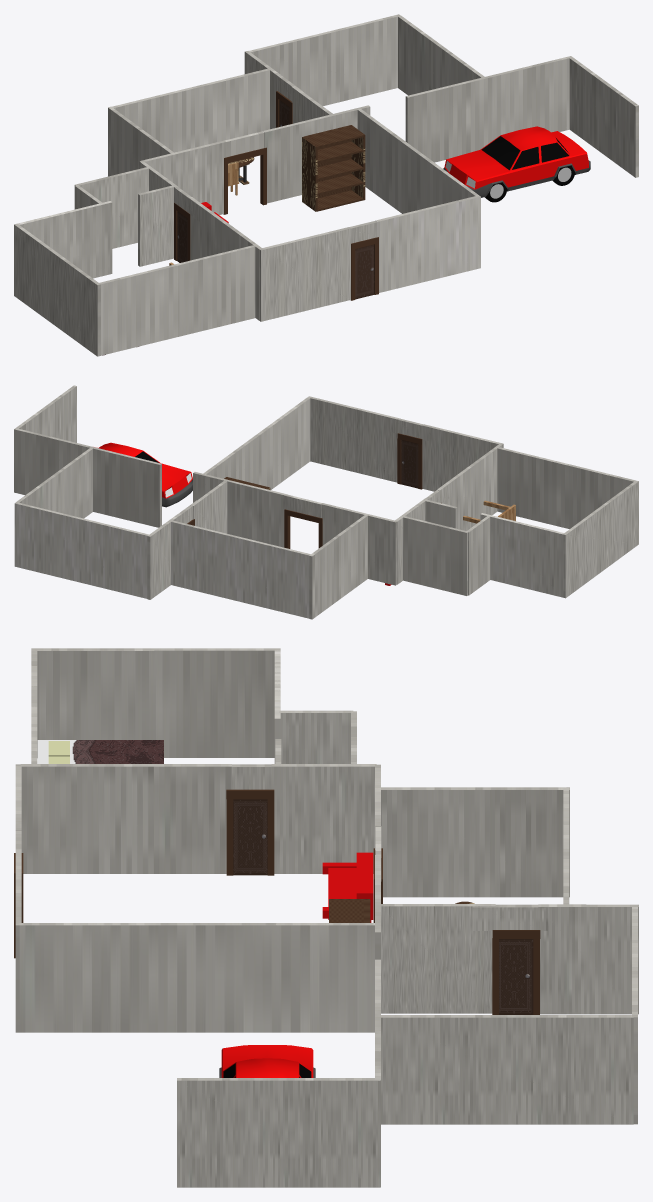
Rendered from WALL new 1.fbx.
3 views of the same model, one above another, from view 1: azimuth 30°, elevation 25°; view 2: azimuth 150°, elevation 25°; view 3: azimuth 270°, elevation 25° (orthographic). The views are drawn at different scales.
Parts seen in each view (by area): view 1: Cube.025, Cube.056, Cube.054, Cube.037, Cube.001, Cube.002, Car, Cube.007, Cube.011, Cube.057, Plane.001, Cube.024 (+14 smaller); view 2: Cube.037, Cube.054, Cube.056, Cube.025, Cube.001, Cube.007, Cube.024, Cube.011, Cube.014, Cube.036, Cube.005, Cube.002 (+16 smaller); view 3: Cube.011, Cube.055, Cube.007, Cube.008, Cube.057, Cube.036, Cube.042, Cube.004, Cube.041, Cube.013, Car, Cube.065 (+13 smaller).
Part boxes in pixels (left/top/right/bottom): Cube.025: left=96, top=245, right=255, bottom=355; Cube.056: left=405, top=56, right=571, bottom=162; Cube.054: left=248, top=14, right=400, bottom=105; Cube.037: left=109, top=68, right=269, bottom=152; Cube.001: left=375, top=195, right=480, bottom=292; Cube.002: left=259, top=227, right=350, bottom=321; Car: left=443, top=126, right=590, bottom=202; Cube.007: left=14, top=223, right=100, bottom=356; Cube.011: left=357, top=109, right=478, bottom=213; Cube.057: left=569, top=56, right=638, bottom=177; Plane.001: left=302, top=125, right=365, bottom=211; Cube.024: left=17, top=201, right=112, bottom=278; Cube.037: left=171, top=520, right=312, bottom=618; Cube.054: left=14, top=502, right=149, bottom=598; Cube.056: left=14, top=428, right=161, bottom=527; Cube.025: left=497, top=447, right=635, bottom=528; Cube.001: left=308, top=396, right=400, bottom=482; Cube.007: left=563, top=480, right=638, bottom=598; Cube.024: left=480, top=513, right=564, bottom=597; Cube.011: left=203, top=397, right=310, bottom=490; Cube.014: left=401, top=516, right=467, bottom=595; Cube.036: left=309, top=515, right=367, bottom=619; Cube.005: left=193, top=472, right=287, bottom=547; Cube.002: left=422, top=424, right=503, bottom=491; Cube.011: left=19, top=923, right=374, bottom=1032; Cube.055: left=381, top=1015, right=633, bottom=1124; Cube.007: left=31, top=648, right=280, bottom=757; Cube.008: left=20, top=764, right=231, bottom=873; Cube.057: left=177, top=1078, right=380, bottom=1187; Cube.036: left=381, top=787, right=569, bottom=897; Cube.042: left=381, top=904, right=495, bottom=1013; Cube.004: left=271, top=764, right=376, bottom=873; Cube.041: left=538, top=904, right=638, bottom=1014; Cube.013: left=279, top=710, right=353, bottom=763; Car: left=219, top=1045, right=315, bottom=1077; Cube.065: left=233, top=799, right=267, bottom=875.
Bounding box in the file's own units: 3708 × 466 × 2265.
35 materials, 20 textured.
